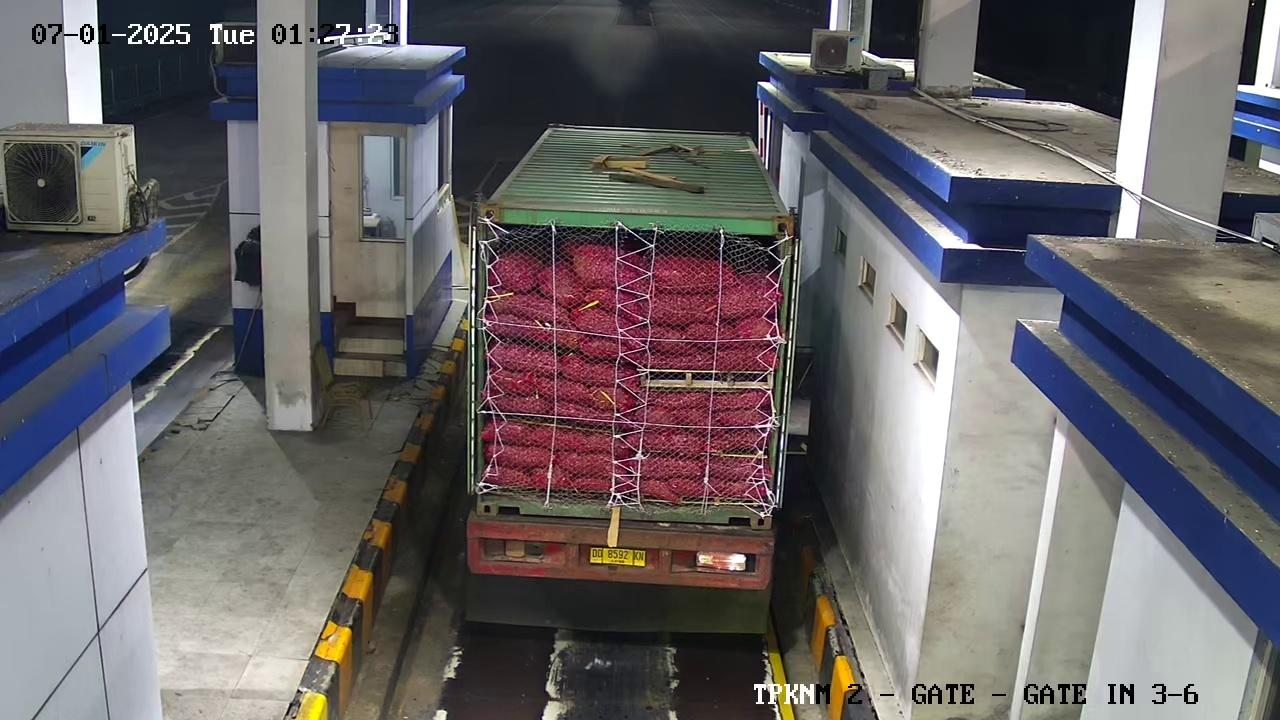plate_number: (588, 536, 652, 575)
